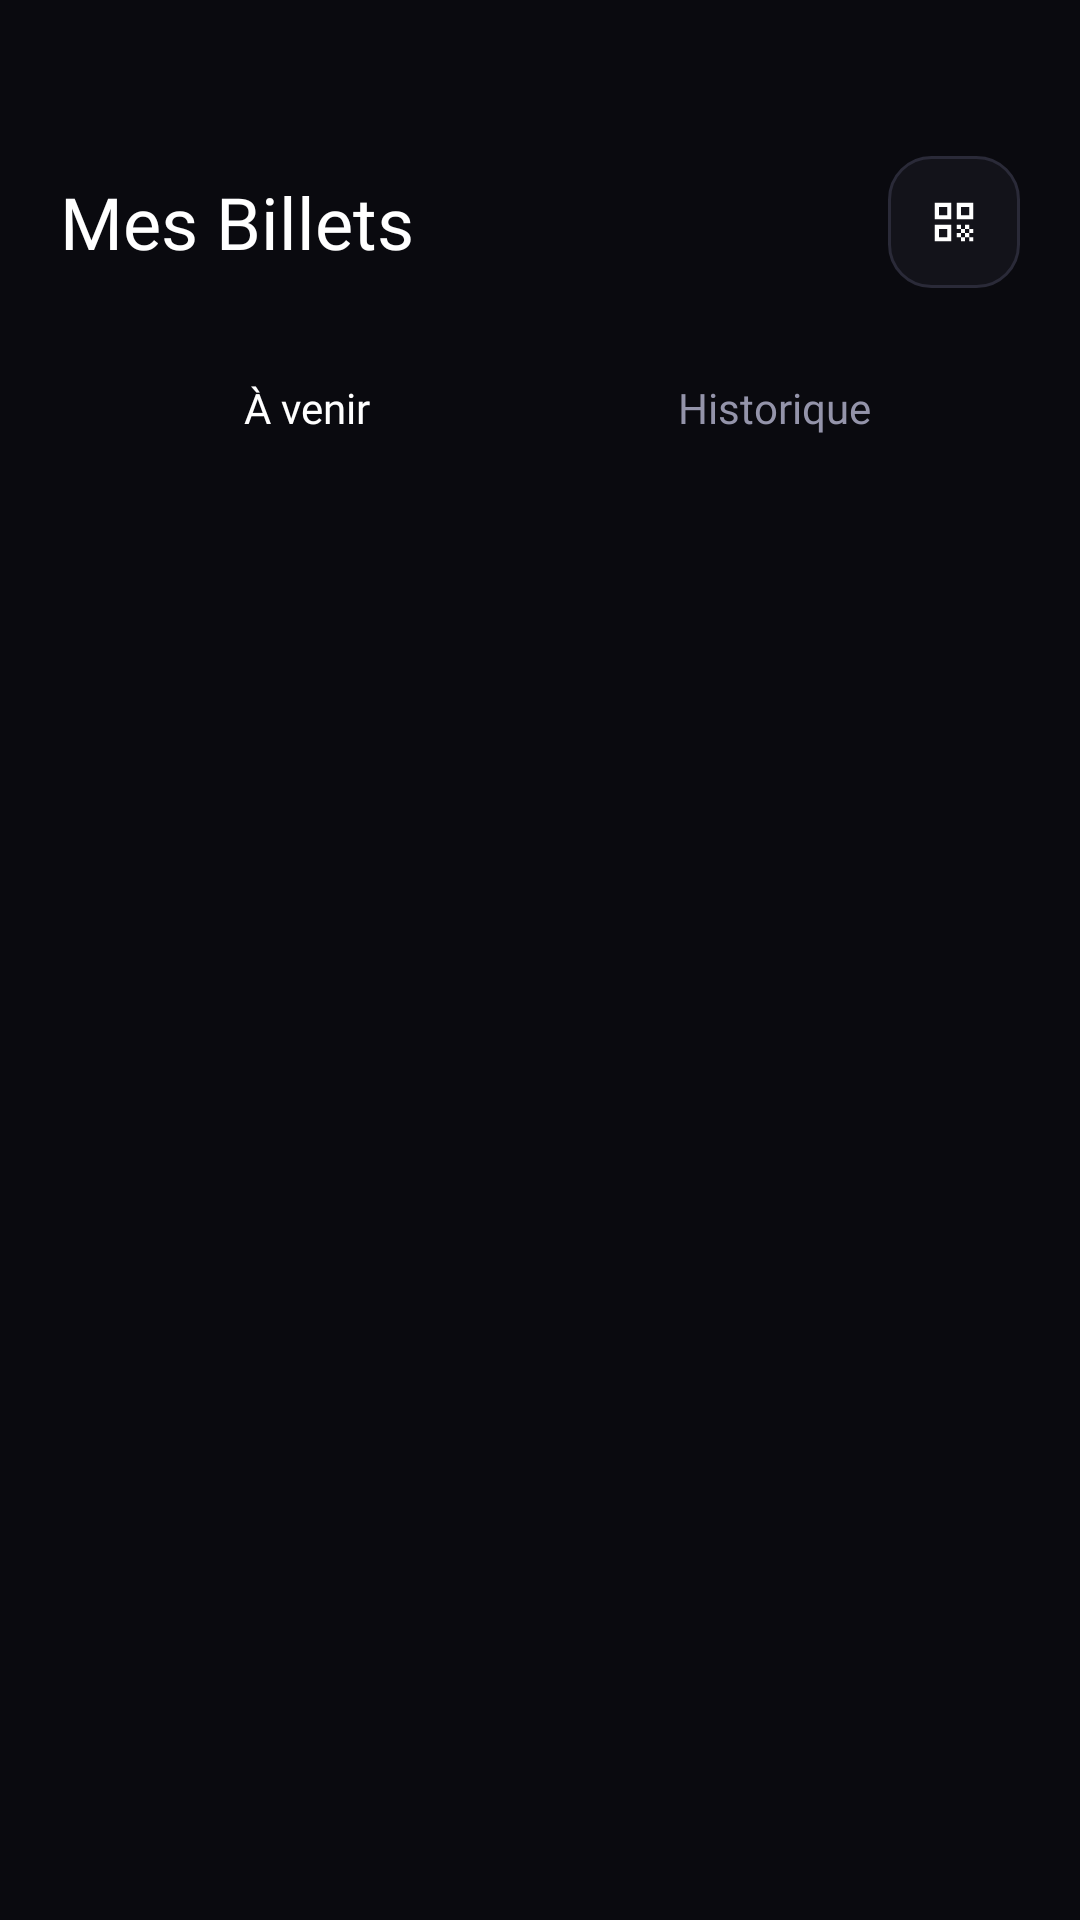

Icon click points for this 1080px x 1920px phone screenshot, format (x,y):
qr scan: (954,222)
